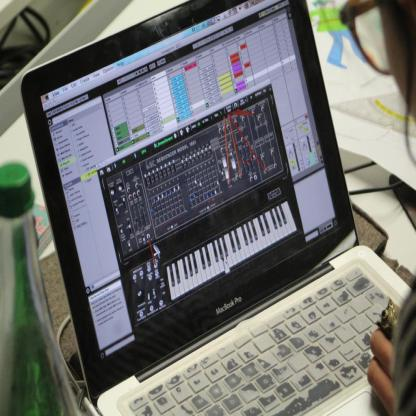board: (16, 5, 409, 416), (0, 159, 80, 416)
